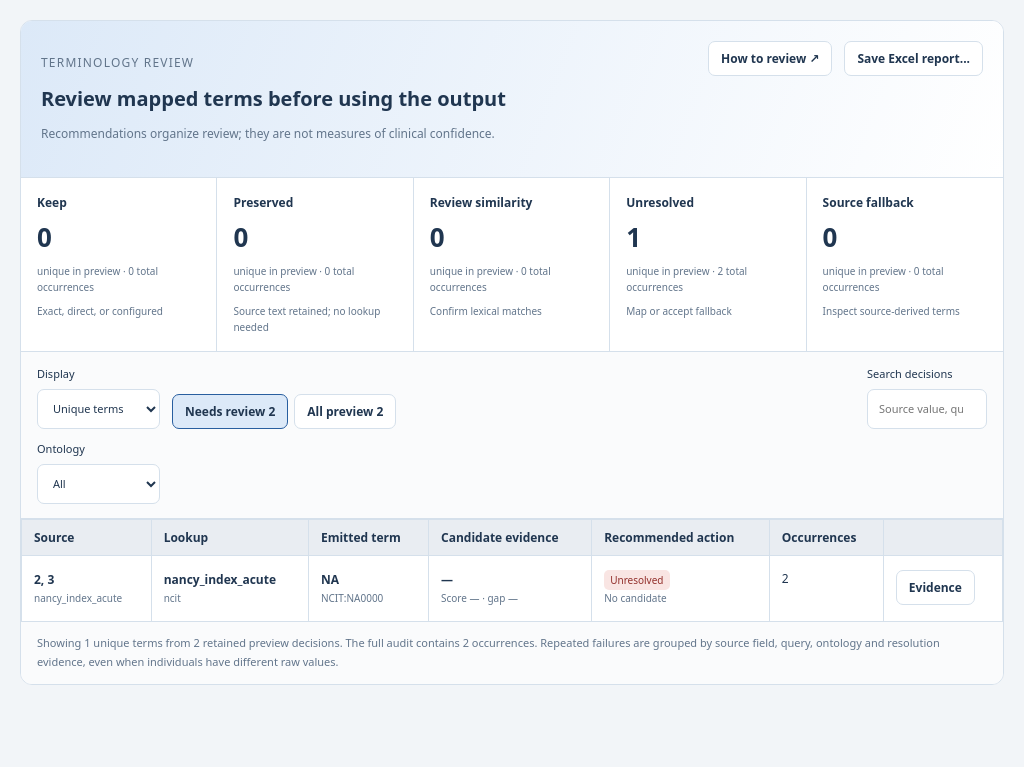
Scenario: shows one unresolved lookup across different individuals and raw values
Expected: the cell "2, 3 nancy_index_acute" is shown, [22,555,151,622]
Click the button "Evidence": point(935, 587) [896,570,975,605]
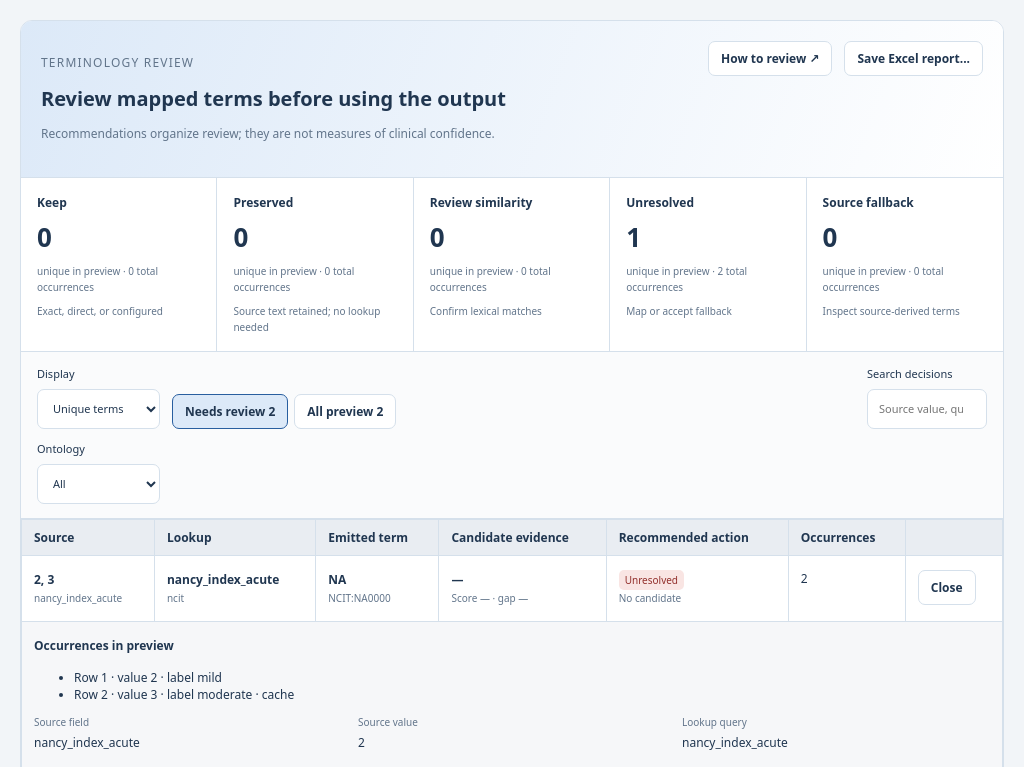
Expected: the list item "Row 2 · value 3 · label moderate · cache" is shown, [74,686,294,703]
